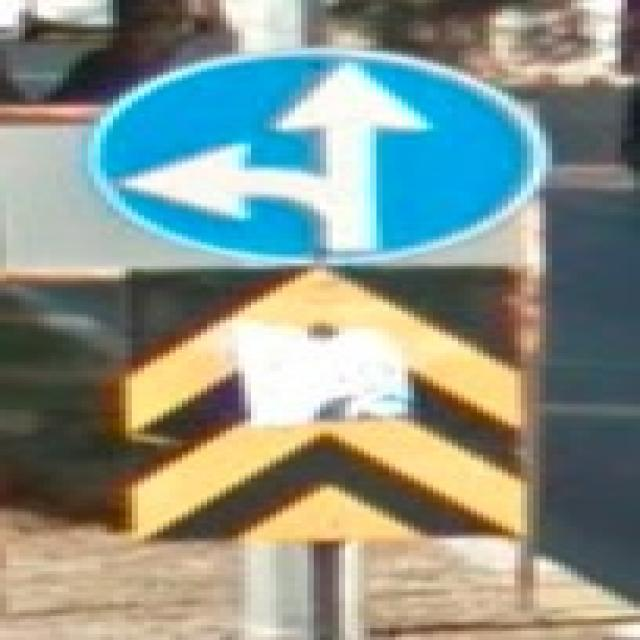Straight or Left: (86, 52, 550, 264)
